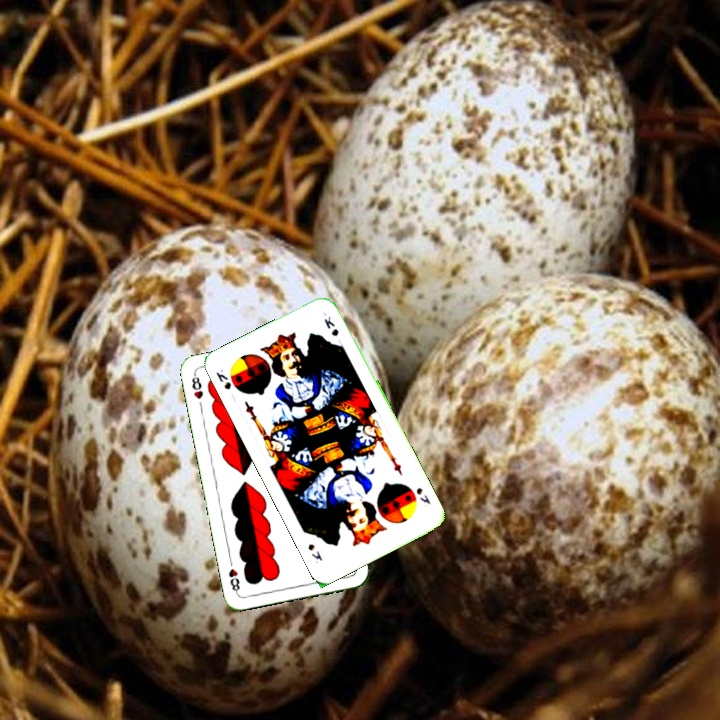H8: (188, 370, 206, 402)
SK: (212, 365, 234, 392), (412, 483, 433, 507)
